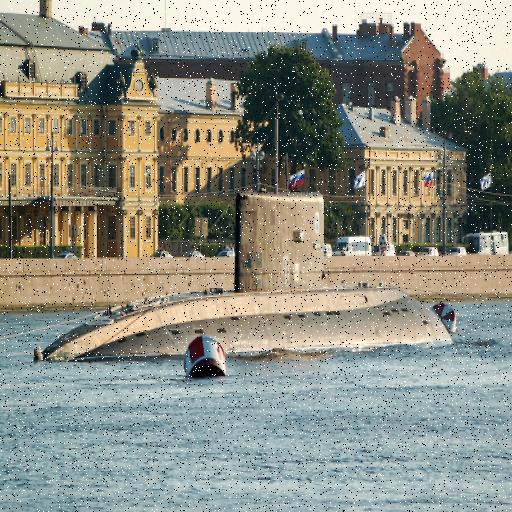submarine: (27, 177, 467, 369)
